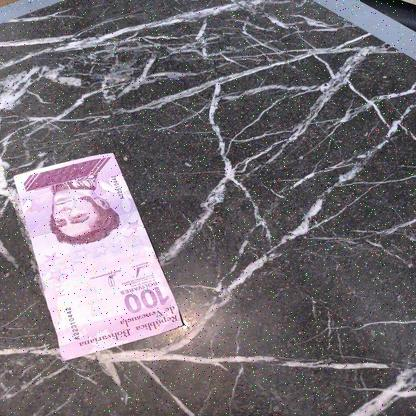one_hundred-front-vef: (13, 152, 182, 362)
